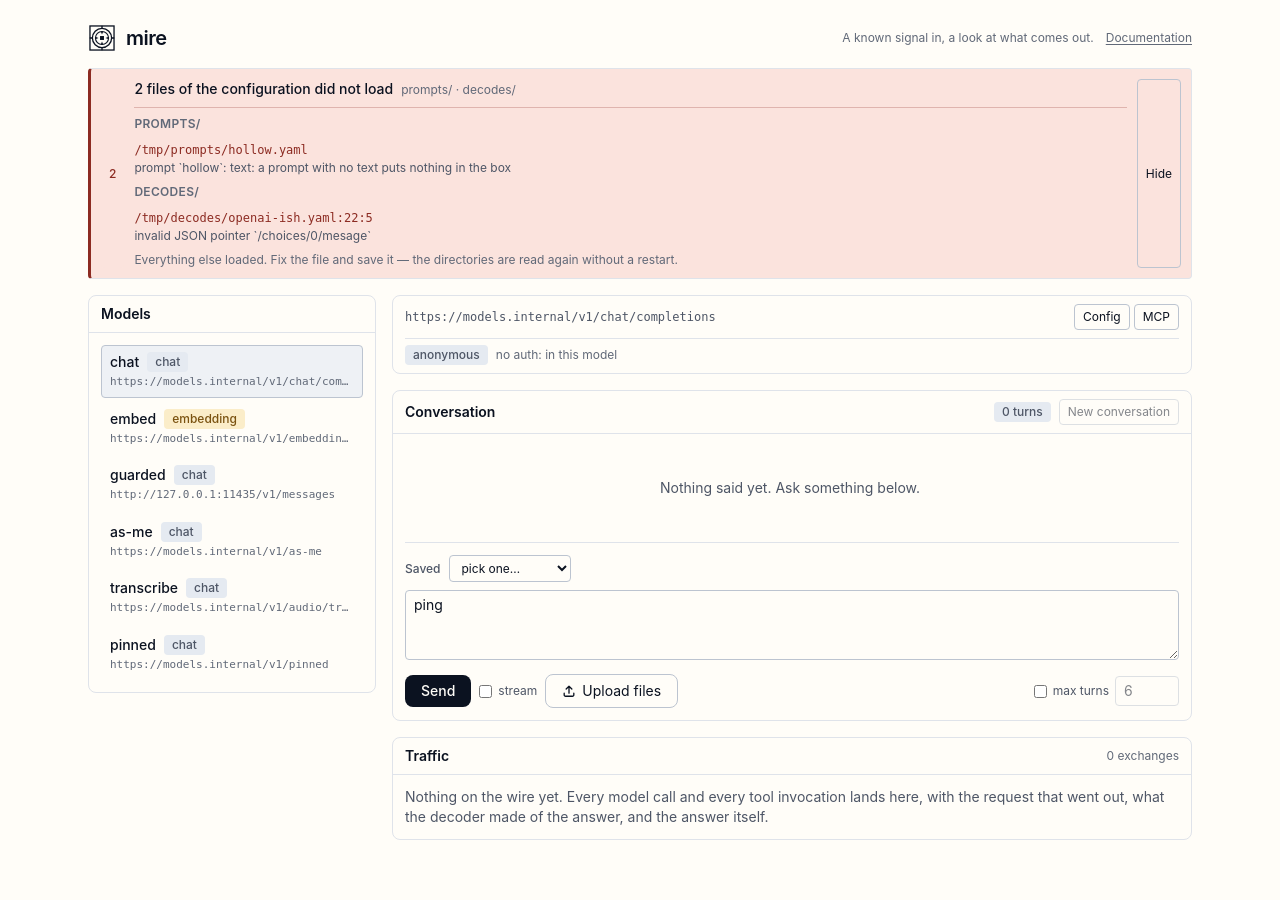
Test case: the loop › offers one turn budget for a chat model and none for an embedding one
Expected: the number field named "Turn limit" is disabled, x1=1115 y1=676 x2=1179 y2=706
Click the checkbox labelled "max turns" at (1040, 691), box x1=1034 y1=684 x2=1047 y2=698
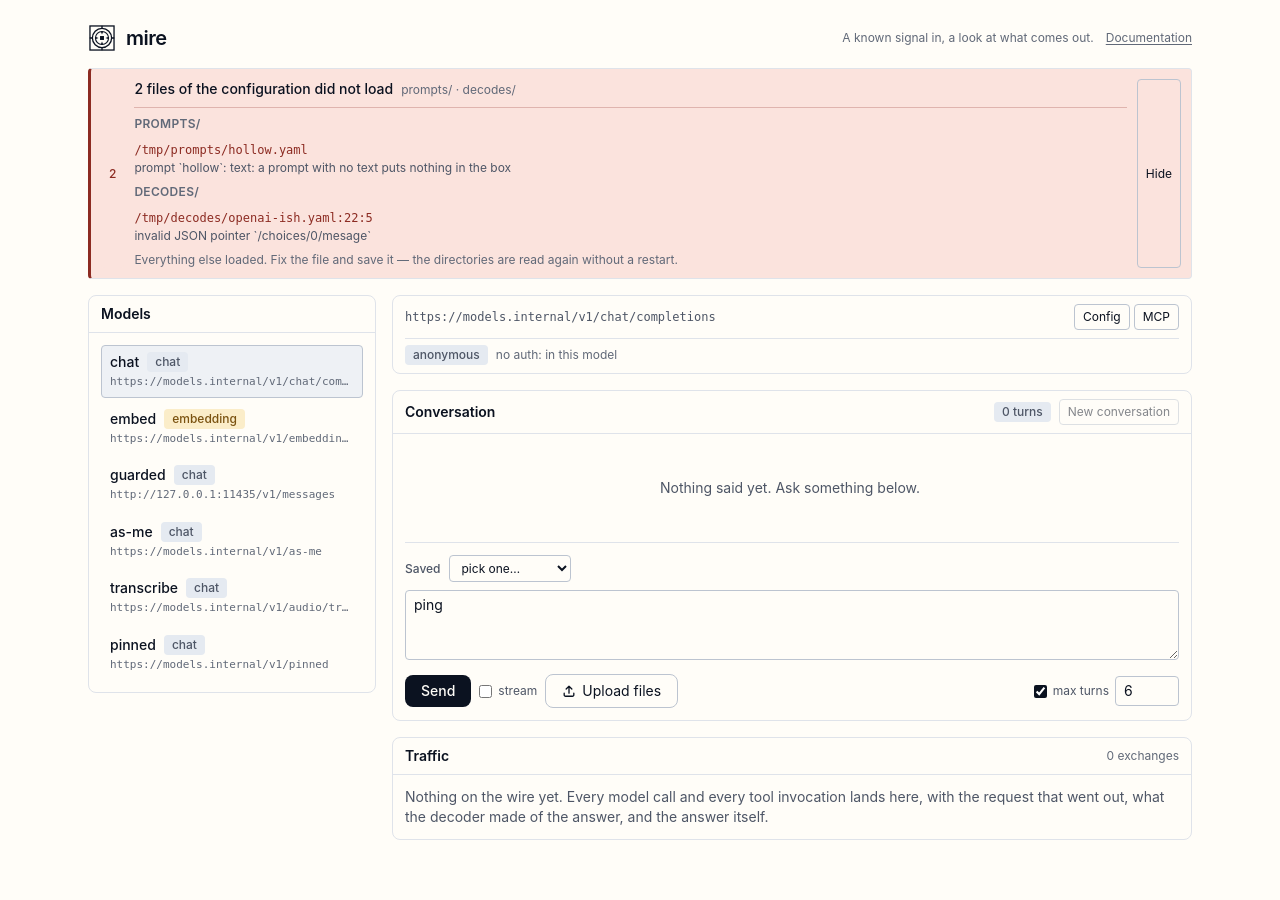
Result: the number field named "Turn limit" is enabled
Replace the text in the number field named "Turn limit" with "1" at (1147, 691), box x1=1115 y1=676 x2=1179 y2=706
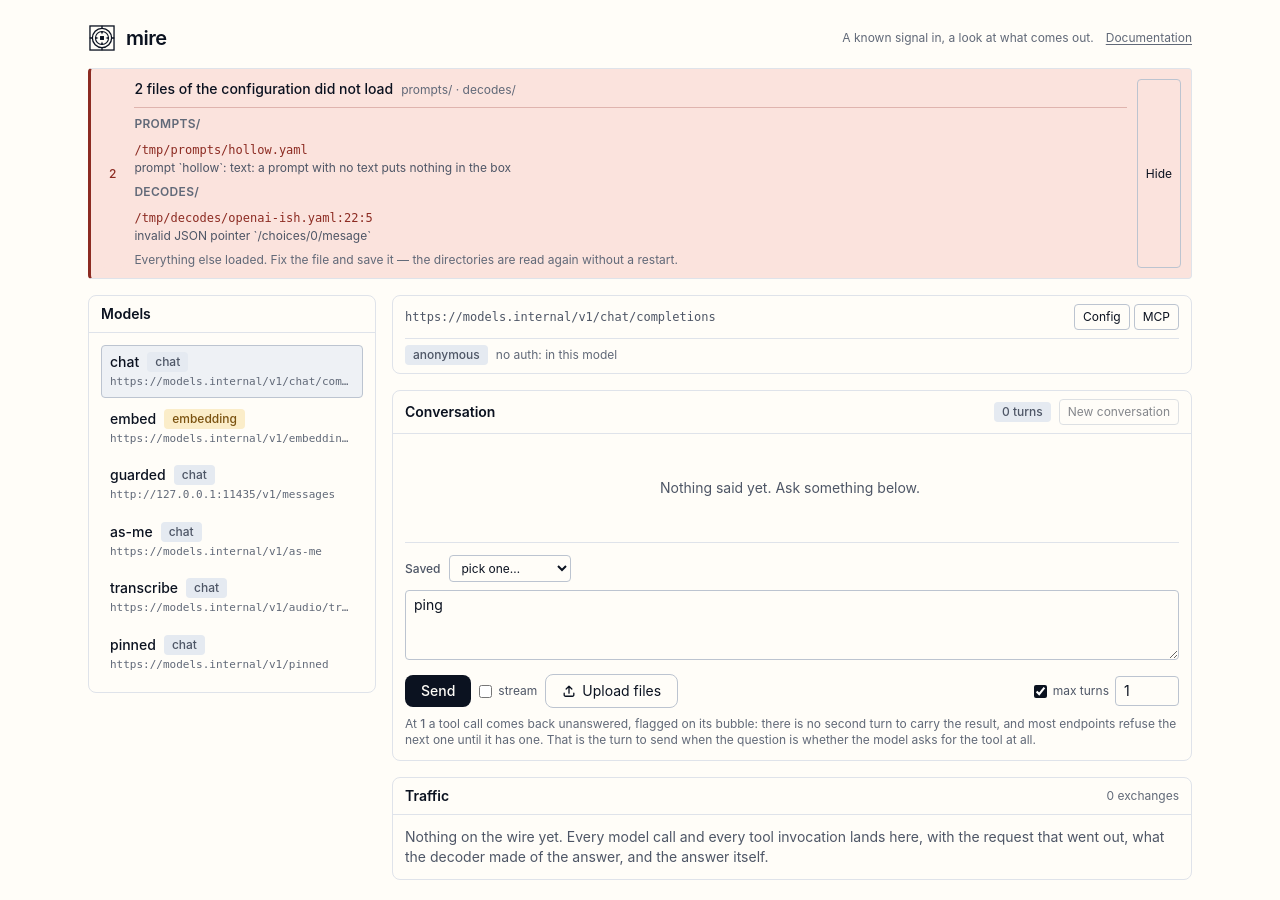
Result: the number field named "Turn limit" is enabled
Clear the number field named "Turn limit" at (1147, 691), box x1=1115 y1=676 x2=1179 y2=706
Click the checkbox labelled "max turns" at (1040, 691), box x1=1034 y1=684 x2=1047 y2=698
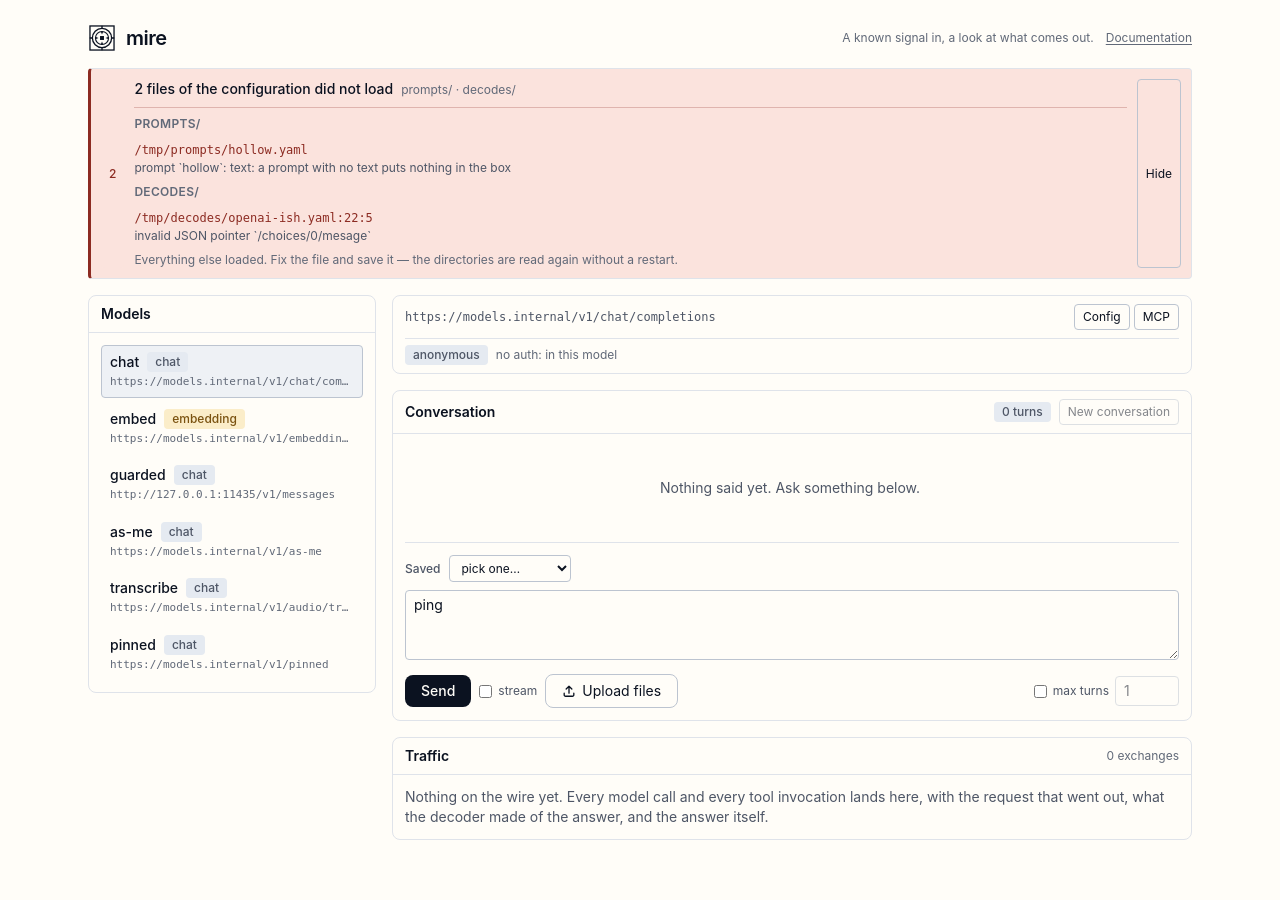
Expected: the number field named "Turn limit" is disabled, x1=1115 y1=676 x2=1179 y2=706
Click the button "embed embedding https://models.internal/v1/embeddings" at (232, 428), box x1=110 y1=408 x2=354 y2=447
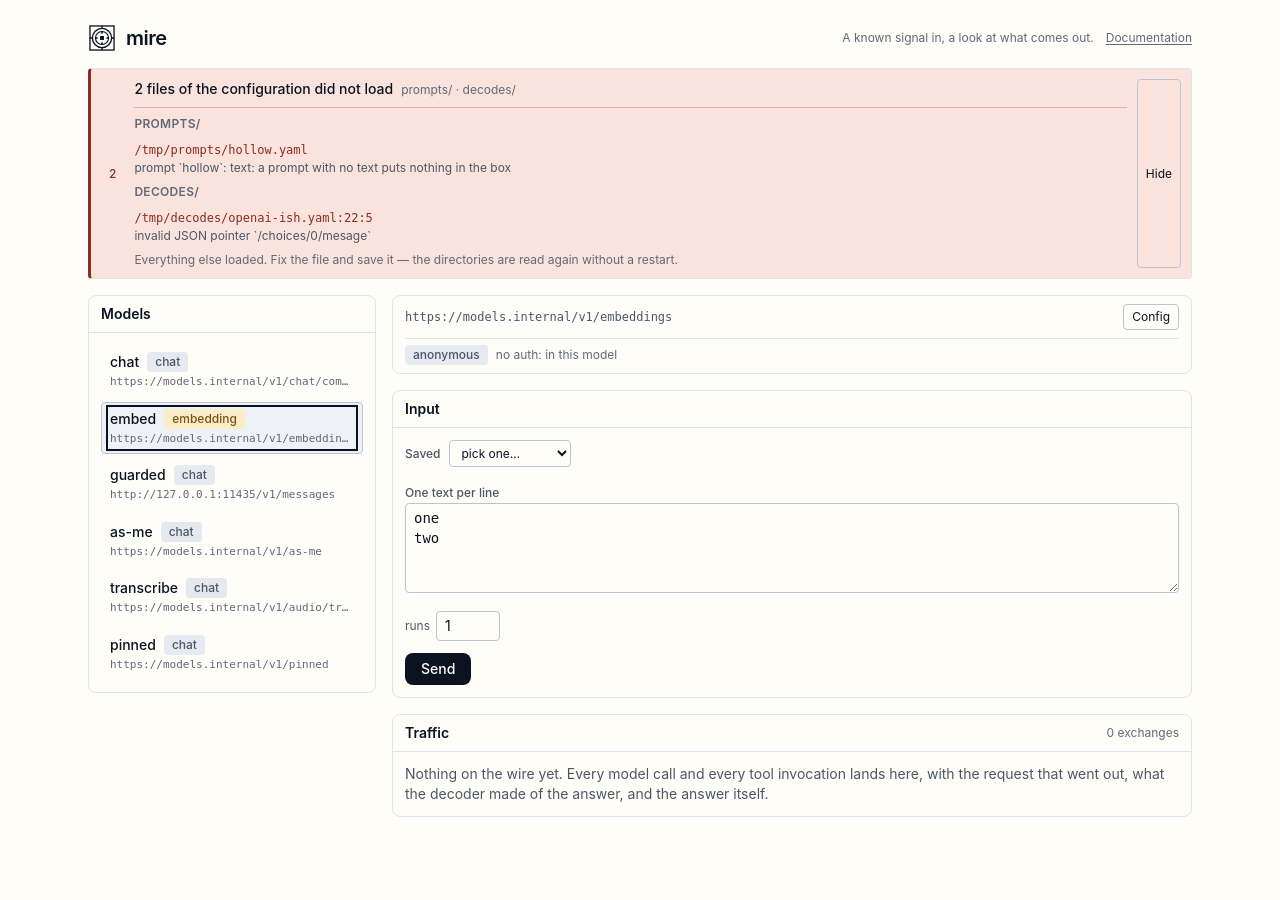
Result: the label labelled "max turns" is gone
